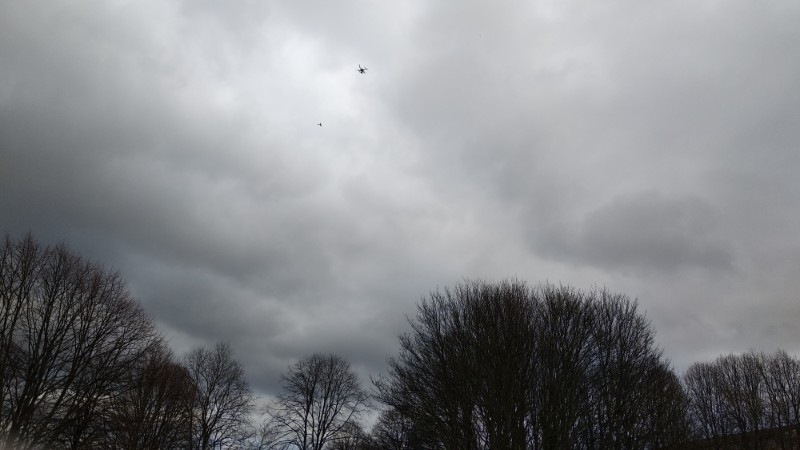drone: (356, 65, 368, 73)
